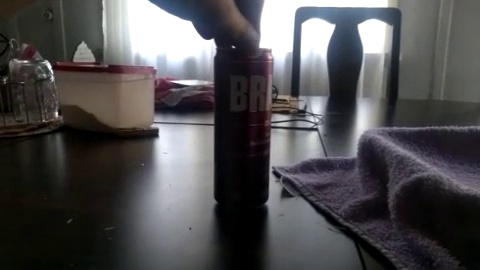duplo_malte: (187, 25, 294, 242)
